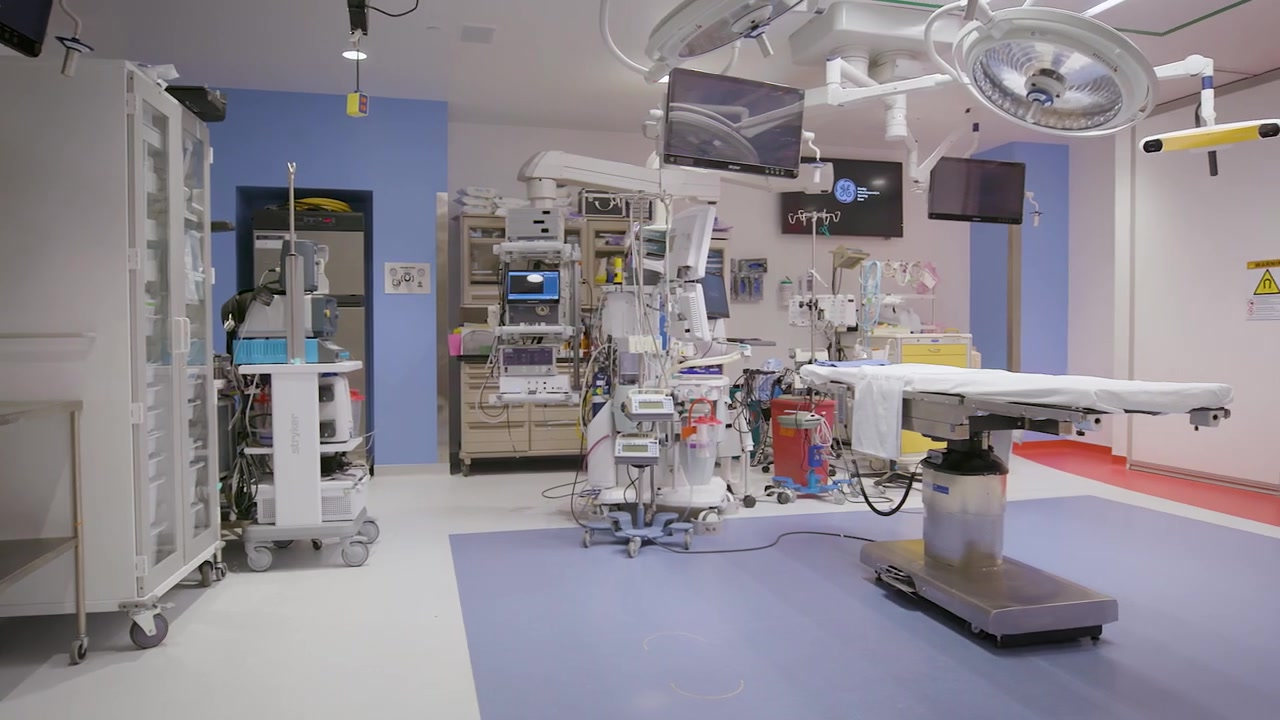bedside_monitor: (663, 67, 805, 179), (780, 156, 904, 237), (928, 156, 1026, 225), (669, 205, 716, 283), (667, 283, 711, 342)
breathing_tube: (857, 260, 881, 336)
computer: (506, 270, 560, 306), (696, 275, 730, 320)
electrosurgical_unit: (231, 339, 349, 363), (498, 375, 570, 394)
handle: (173, 318, 184, 353), (180, 317, 190, 352), (928, 348, 941, 354)
infusion_pump: (788, 294, 856, 329)
iv_pole: (594, 190, 673, 529), (788, 209, 841, 413), (286, 162, 297, 363)
keyboard: (727, 336, 764, 342)
medical_drawer: (1, 51, 226, 648), (450, 193, 655, 479), (851, 331, 973, 464)
operating_bed: (779, 358, 1233, 649)
surgical_light: (951, 7, 1159, 138), (644, 1, 805, 84)
syringe_pump: (627, 387, 674, 422), (614, 432, 659, 465)
utility_cart: (1, 399, 88, 664)
waste_bin: (765, 398, 836, 504)
